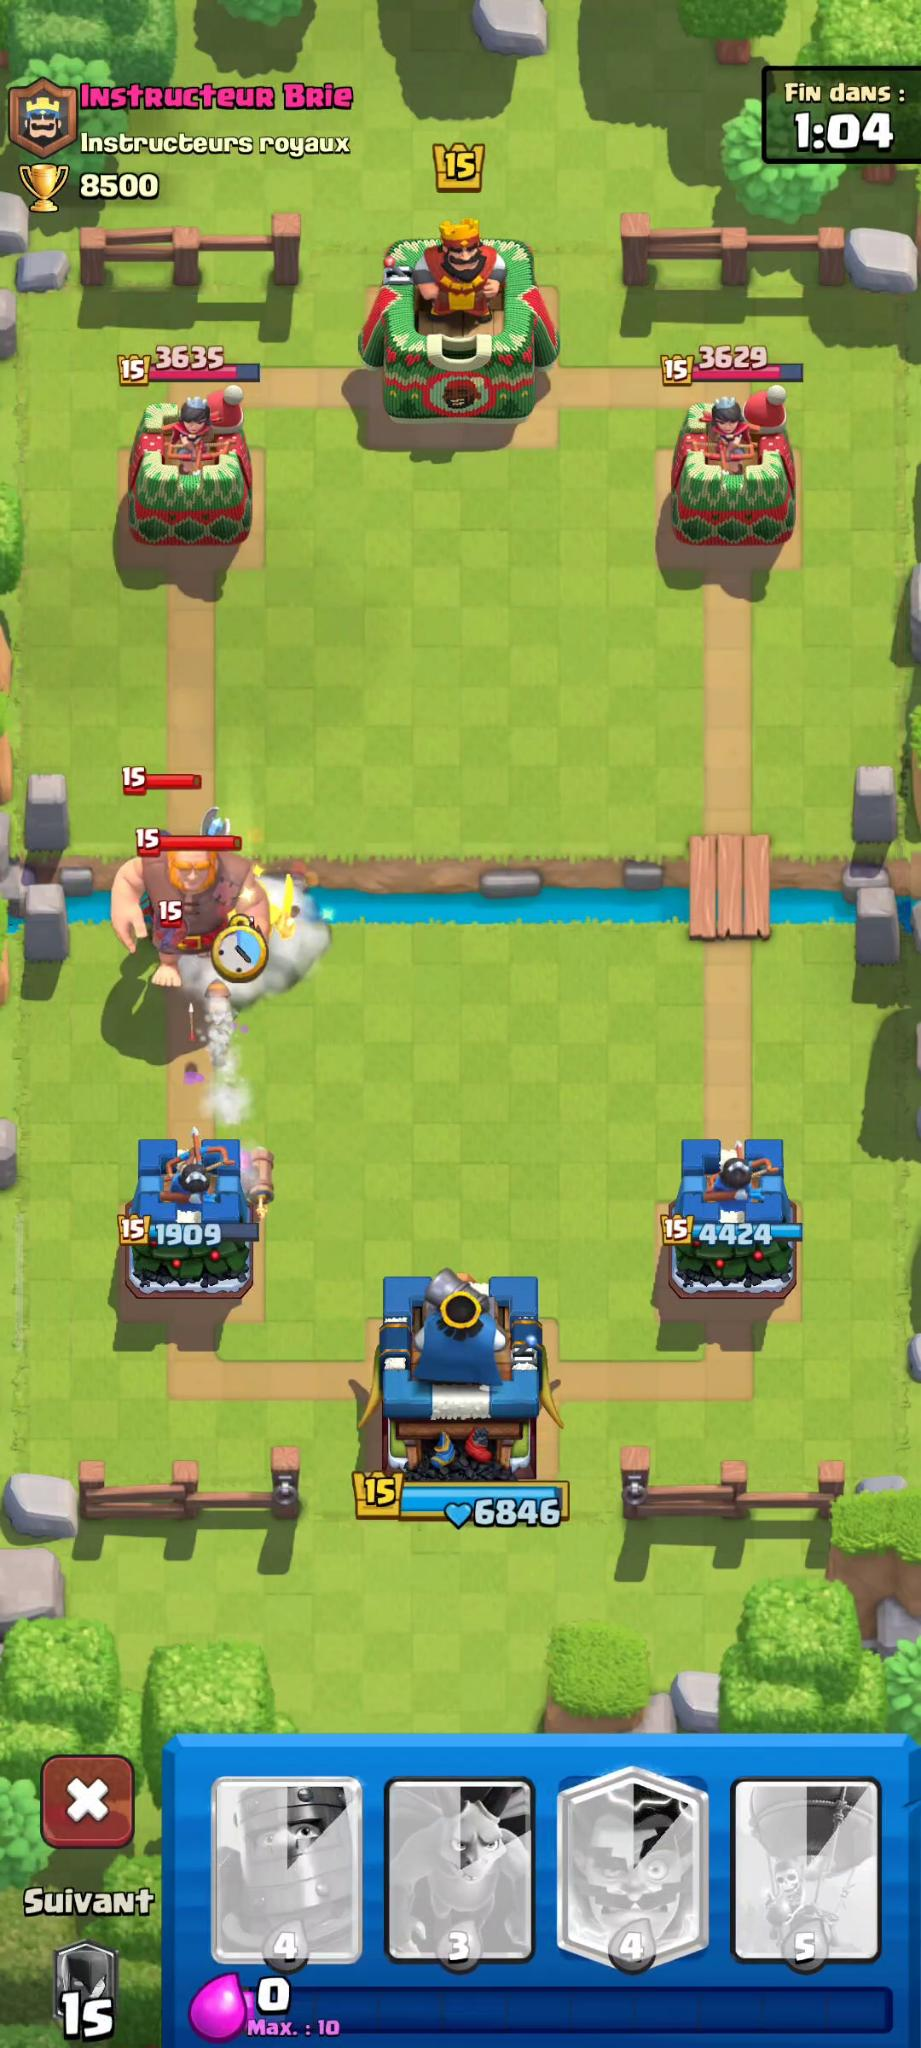bat: (142, 903, 204, 960)
geant: (111, 829, 276, 982)
